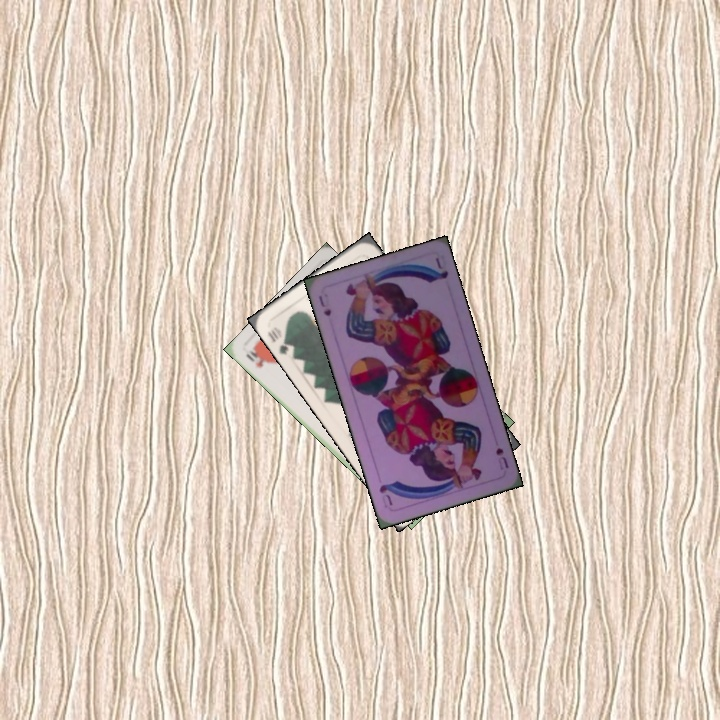G10: (263, 323, 294, 358)
HO: (242, 344, 271, 370)
SU: (314, 291, 334, 319), (492, 444, 511, 471)
